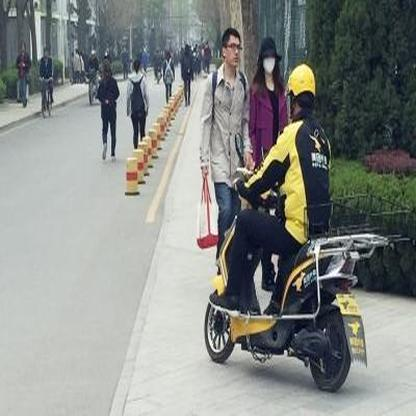target: (205, 63, 391, 394)
